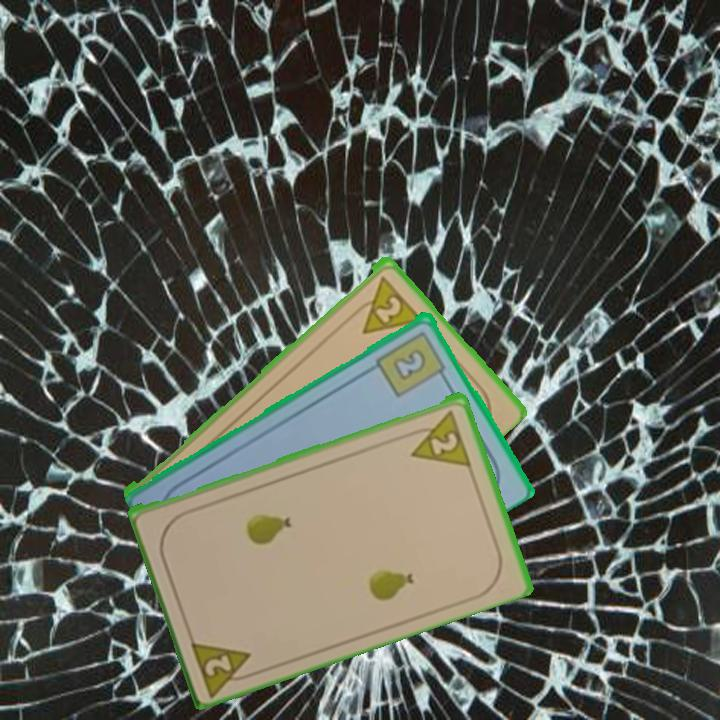2b: (373, 326, 451, 399)
2p: (347, 272, 424, 337), (186, 634, 262, 697), (402, 406, 474, 469)
